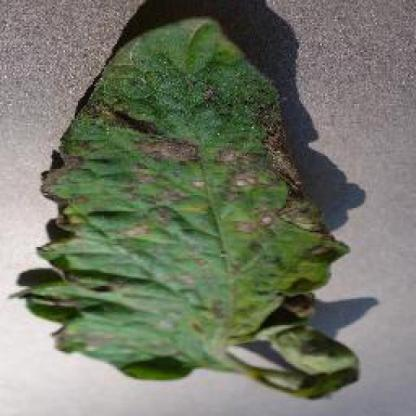Tomato_Blight: (15, 19, 348, 378)
